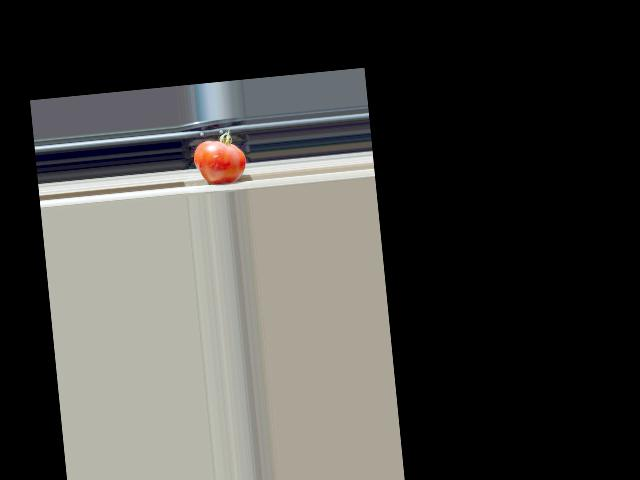tomato: (192, 128, 248, 185)
